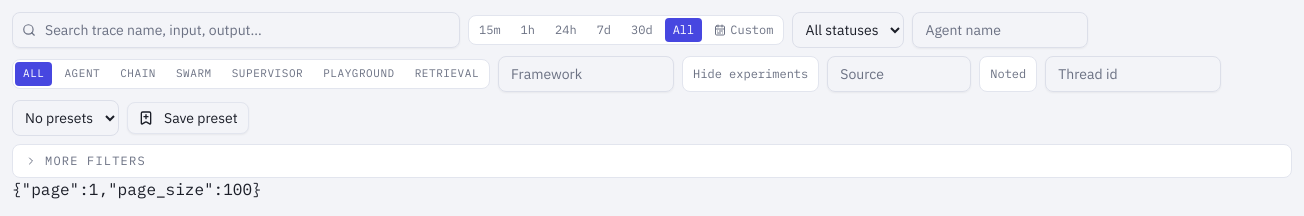
Test case: TraceFiltersBar (Sprint 3) › the Hide experiments chip toggles exclude_experiments (1.89.0)
What coordinates should you click on to do the following:
click the button "Hide experiments"
I would click on:
 (751, 74)
Its box is x1=682 y1=56 x2=819 y2=92.
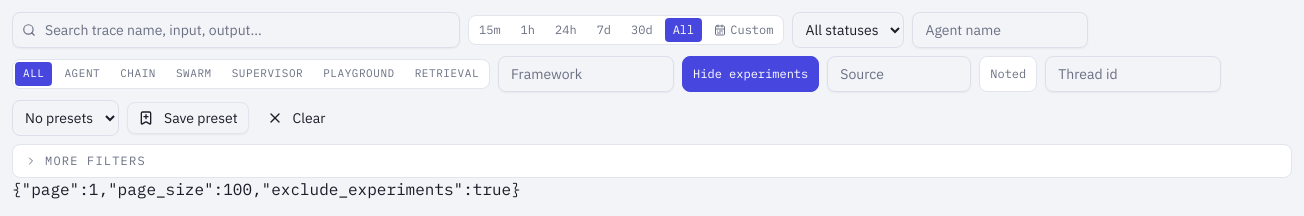
Now the text with test id "filters-state" shows "\"exclude_experiments\":true", box x1=12 y1=179 x2=521 y2=199
What coordinates should you click on to do the following:
click the button "Hide experiments"
I would click on:
 (751, 74)
Its box is x1=682 y1=56 x2=819 y2=92.
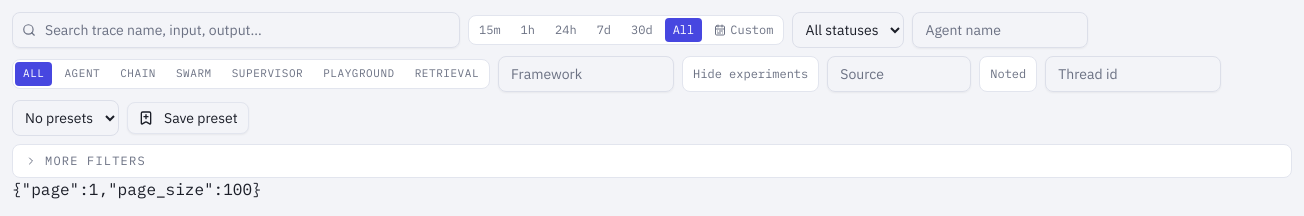
Now the text with test id "filters-state" no longer shows "exclude_experiments"
